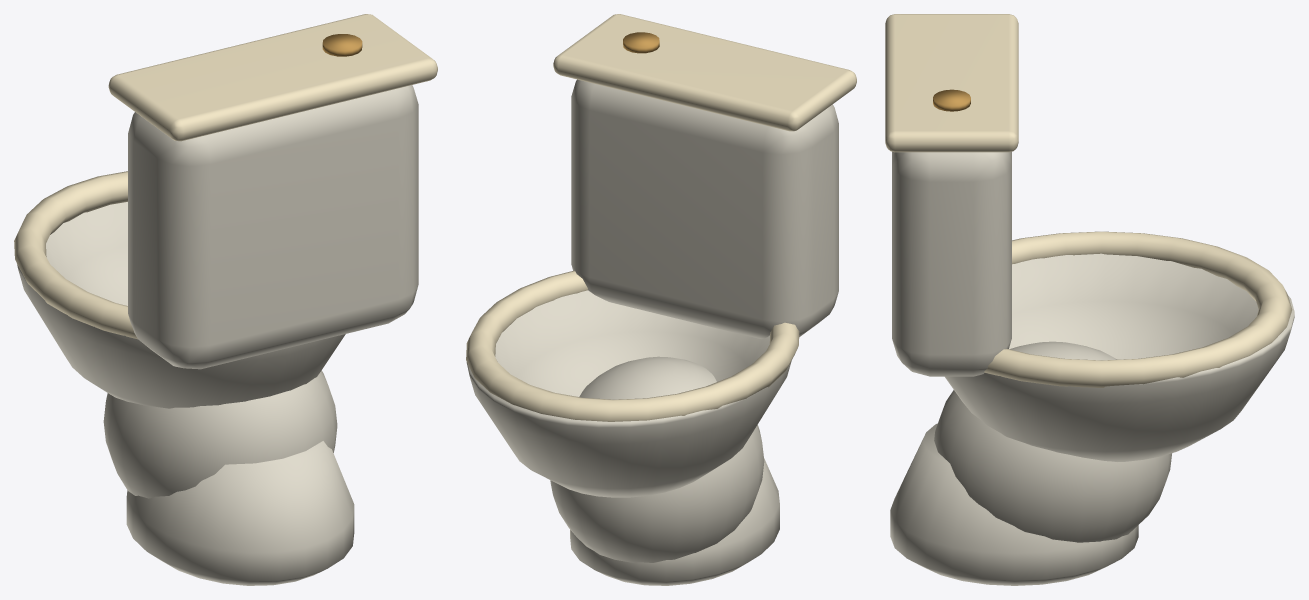
Rendered from toilet.glb.
3 views of the same model, side by side, from view 1: azimuth 30°, elevation 25°; view 2: azimuth 150°, elevation 25°; view 3: azimuth 270°, elevation 25° (orthographic). The views are drawn at different scales.
Parts seen in each view (by area): view 1: House07_toilet; view 2: House07_toilet; view 3: House07_toilet.
Part boxes in pixels (x1=…): House07_toilet: x1=14, y1=14, x2=437, y2=585; House07_toilet: x1=466, y1=14, x2=856, y2=585; House07_toilet: x1=885, y1=14, x2=1294, y2=585.
Size of the model in its own units: 0.614 by 0.98 by 0.7519.
